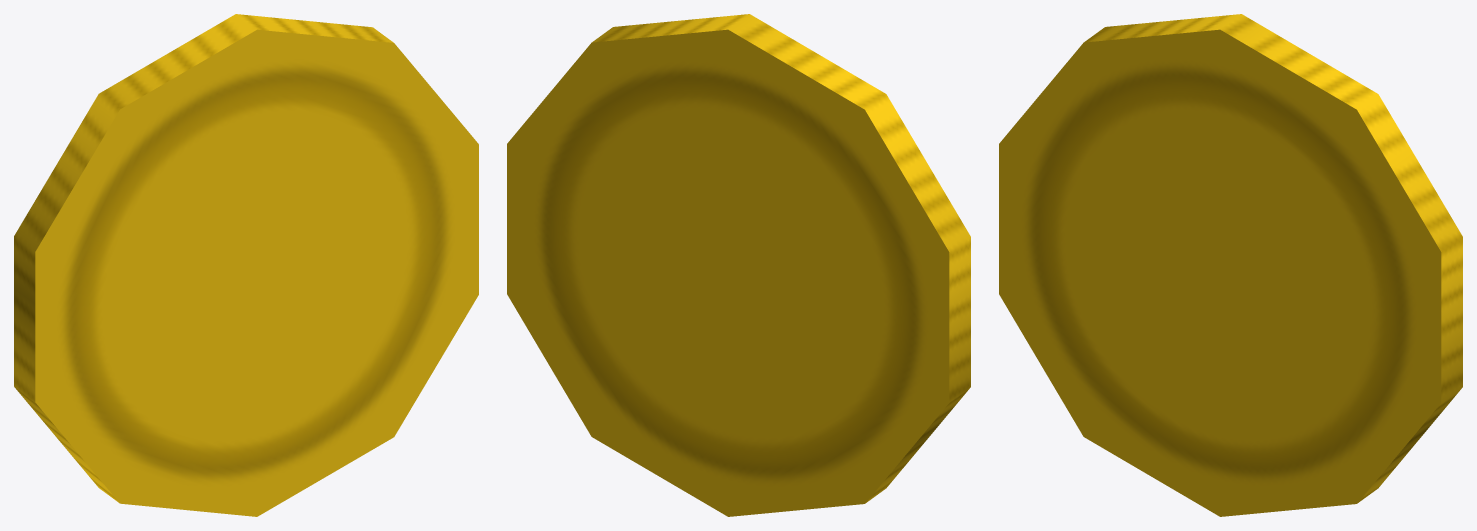
File: coin (2).FBX
3 views of the same model, side by side, from view 1: azimuth 30°, elevation 25°; view 2: azimuth 150°, elevation 25°; view 3: azimuth 330°, elevation 25° (orthographic).
Visible parts, largest first — view 1: Cylinder001; view 2: Cylinder001; view 3: Cylinder001.
Boxes of the visible parts, bbox=[...] form: Cylinder001: bbox=[14, 14, 478, 516]; Cylinder001: bbox=[507, 14, 970, 516]; Cylinder001: bbox=[999, 14, 1462, 516].
Size of the model in its own units: 2.35 by 2.47 by 0.2028.
